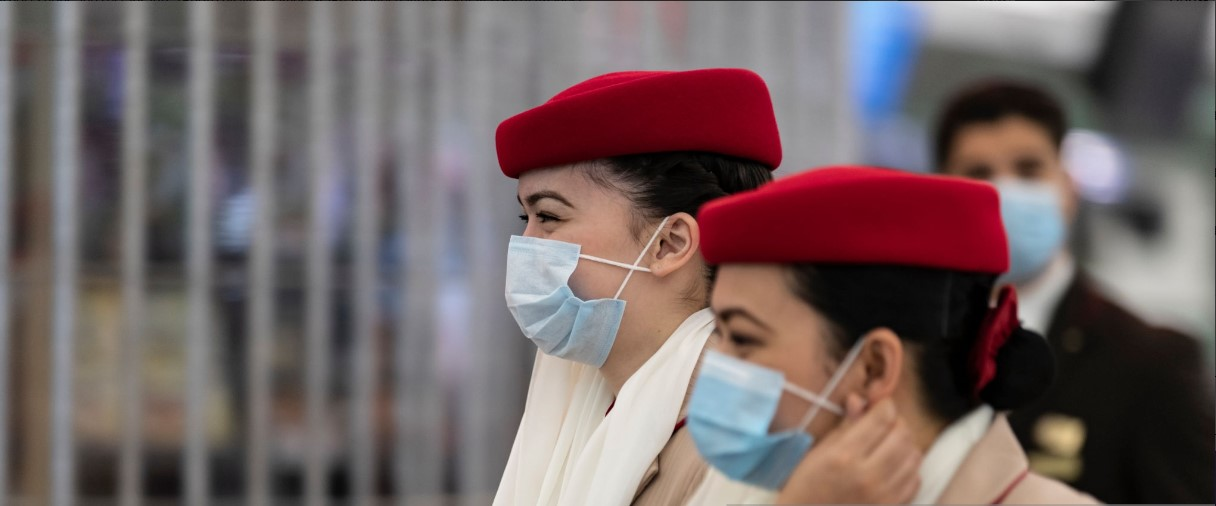face_with_mask: (686, 166, 994, 493), (496, 71, 787, 376), (932, 81, 1079, 285)
